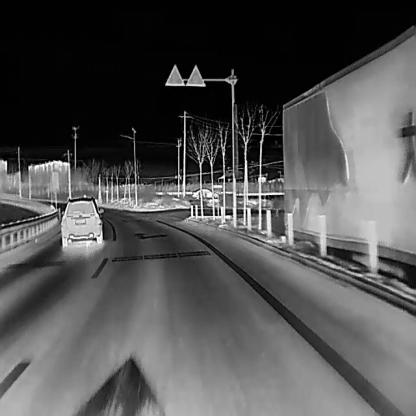car: (59, 194, 103, 247)
